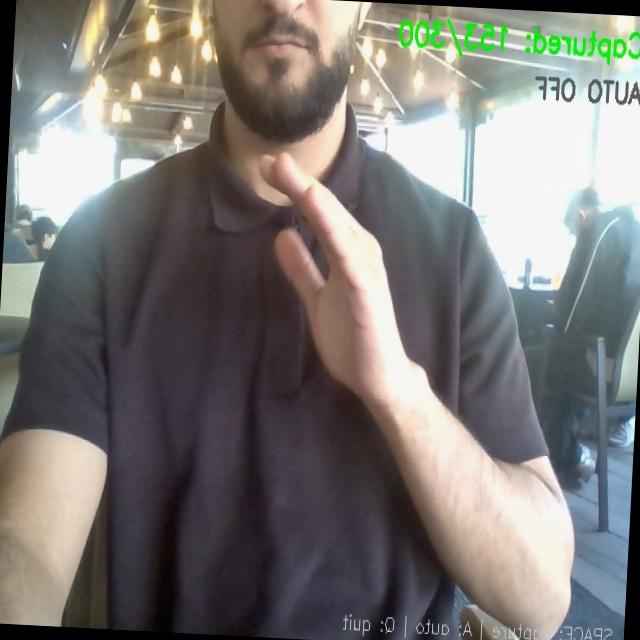Hand: (260, 154, 412, 406)
